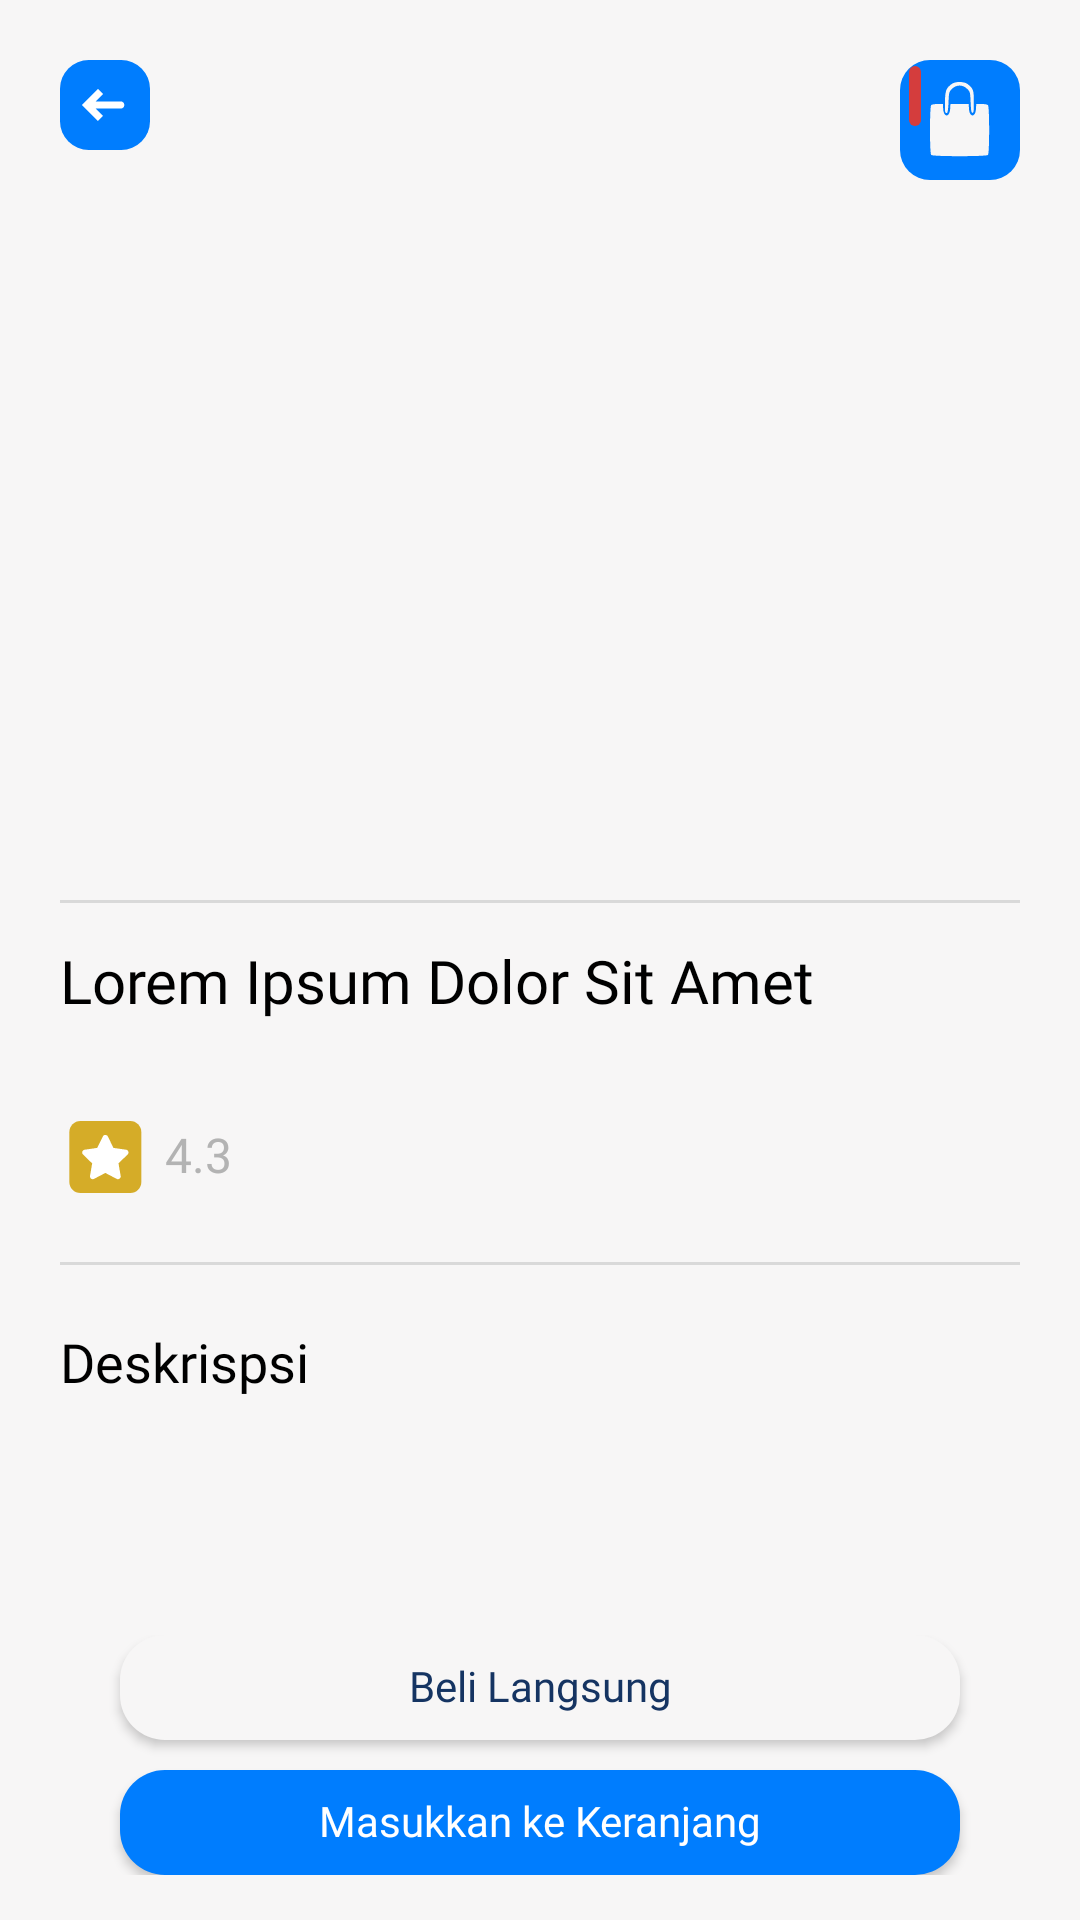

Icon click points for this 1080 x 1920 phone screenshot, format (x,y):
back: (105,105)
cart: (960,119)
star: (105,1157)
